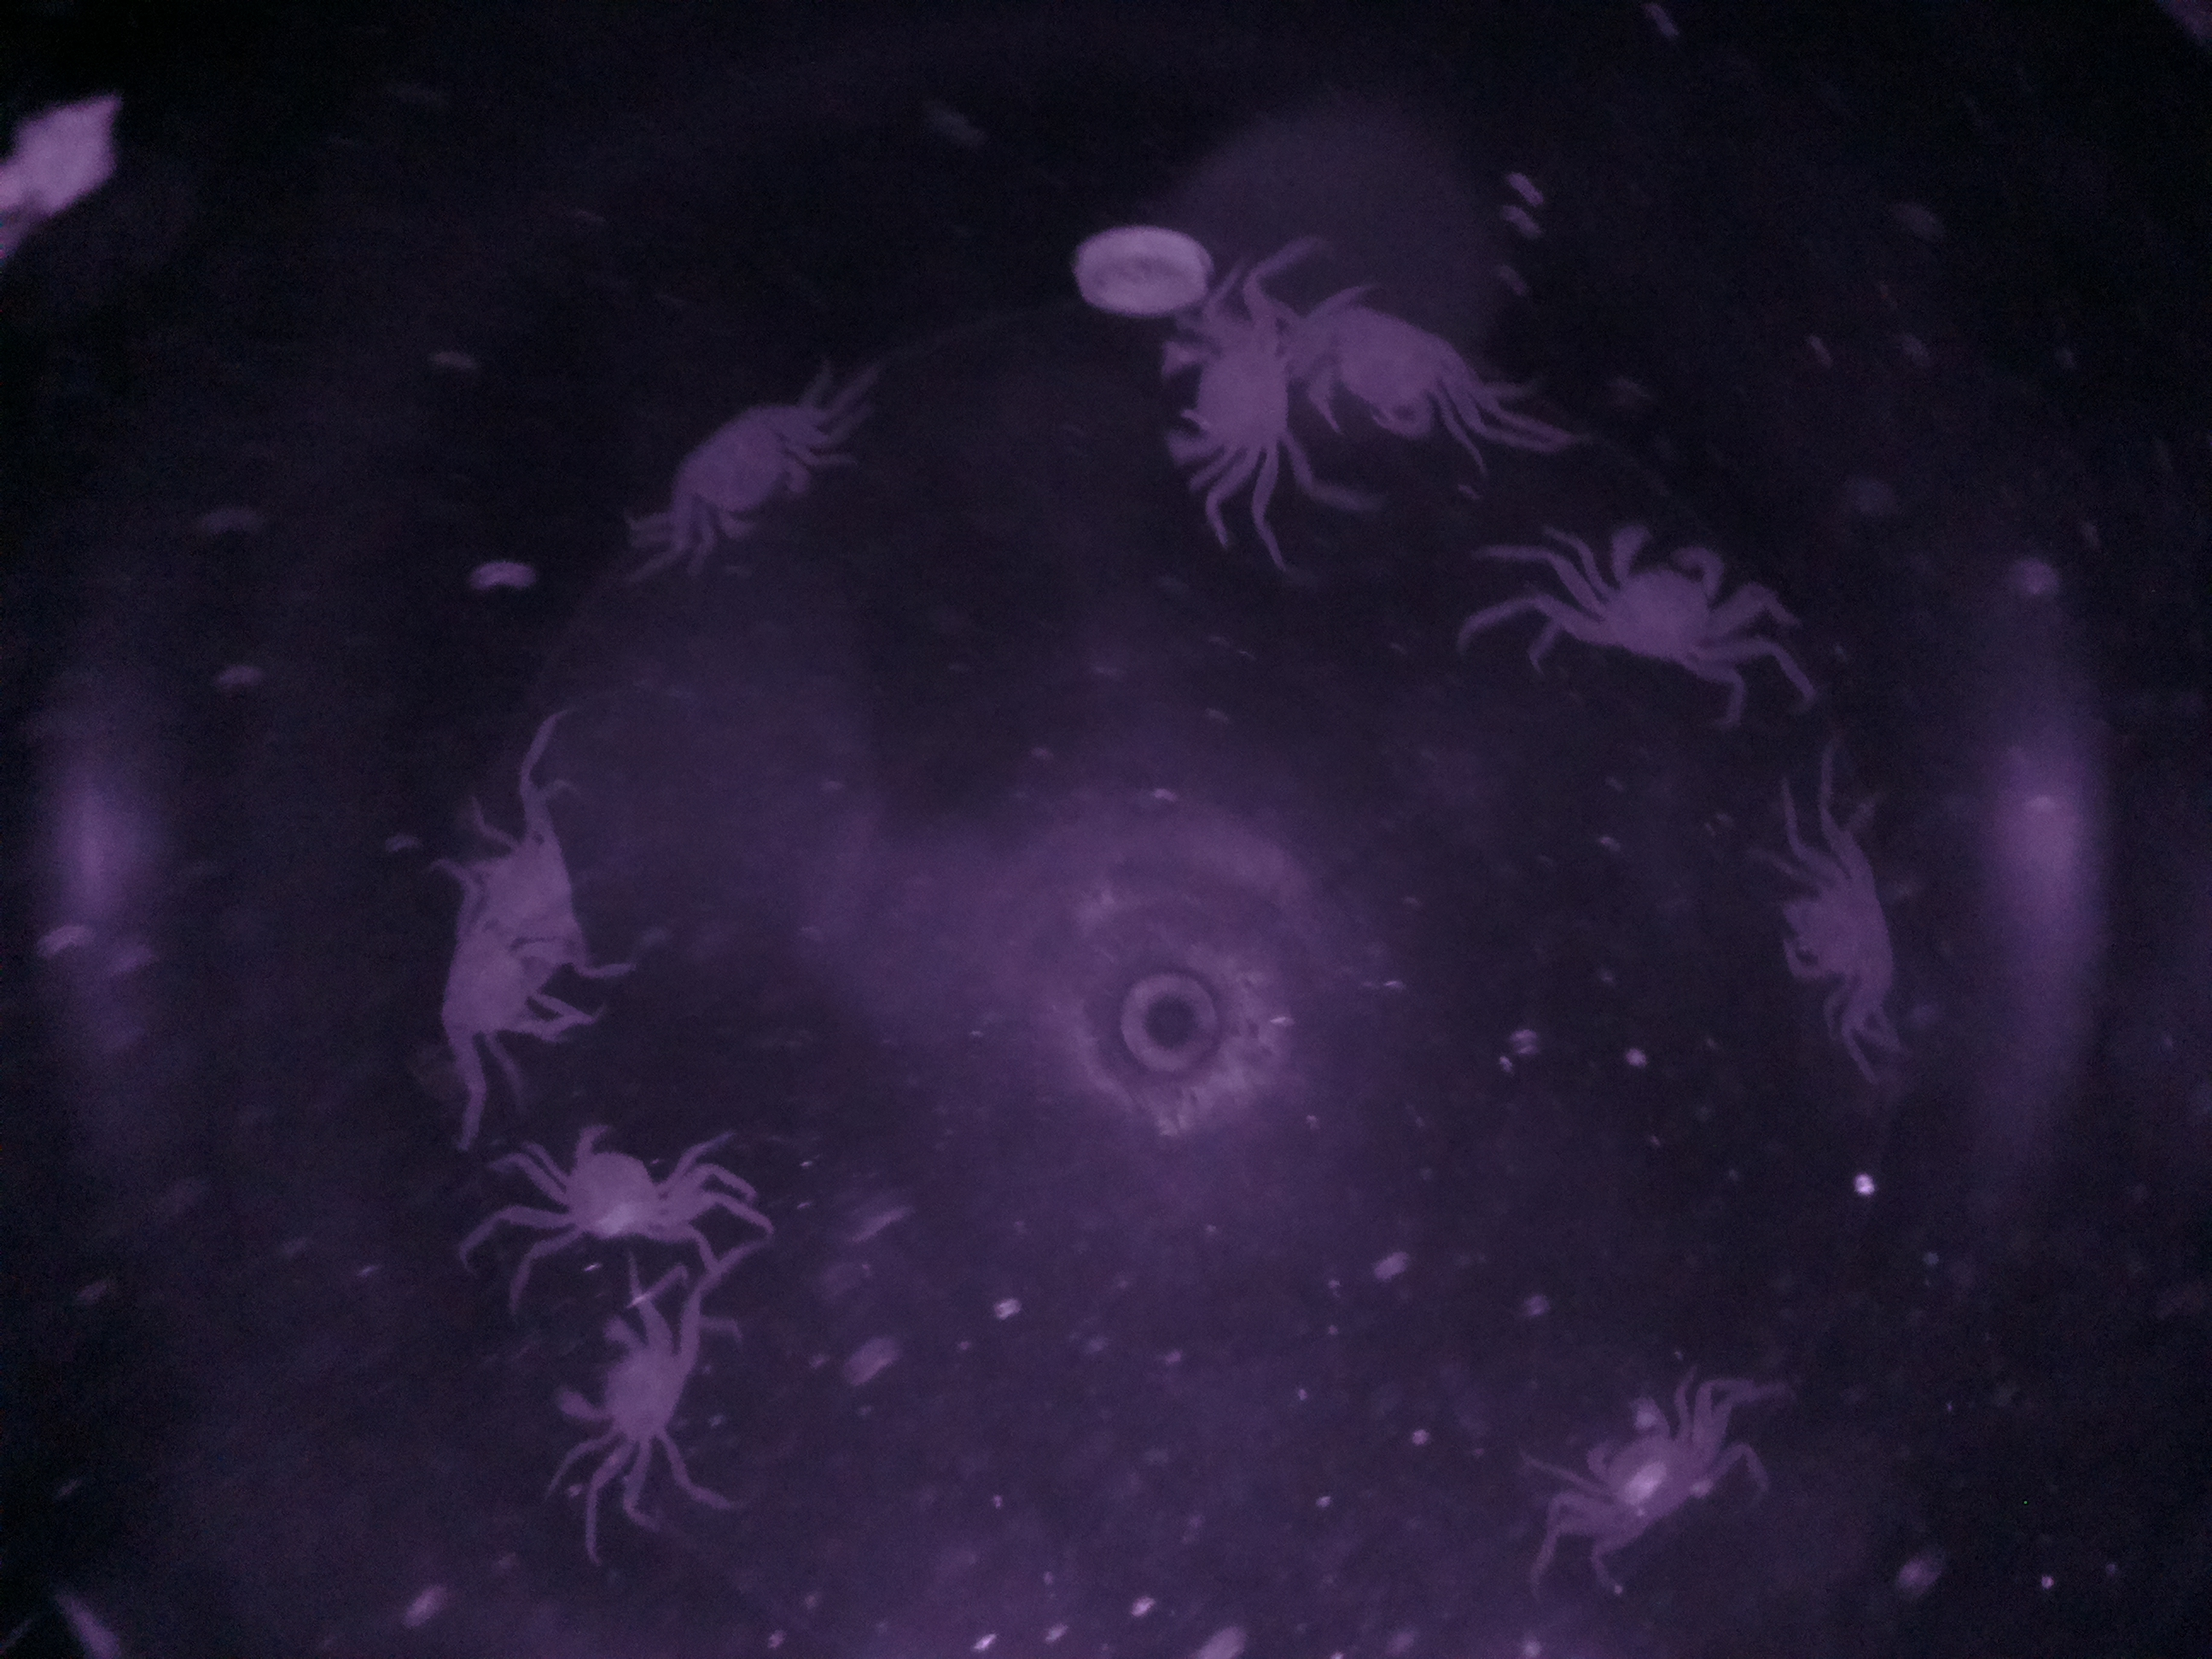Crab: (1526, 504, 1768, 688), (1134, 277, 1318, 509), (1754, 835, 1928, 1047), (535, 1297, 723, 1480), (1555, 1370, 1726, 1561), (528, 1105, 709, 1262)
